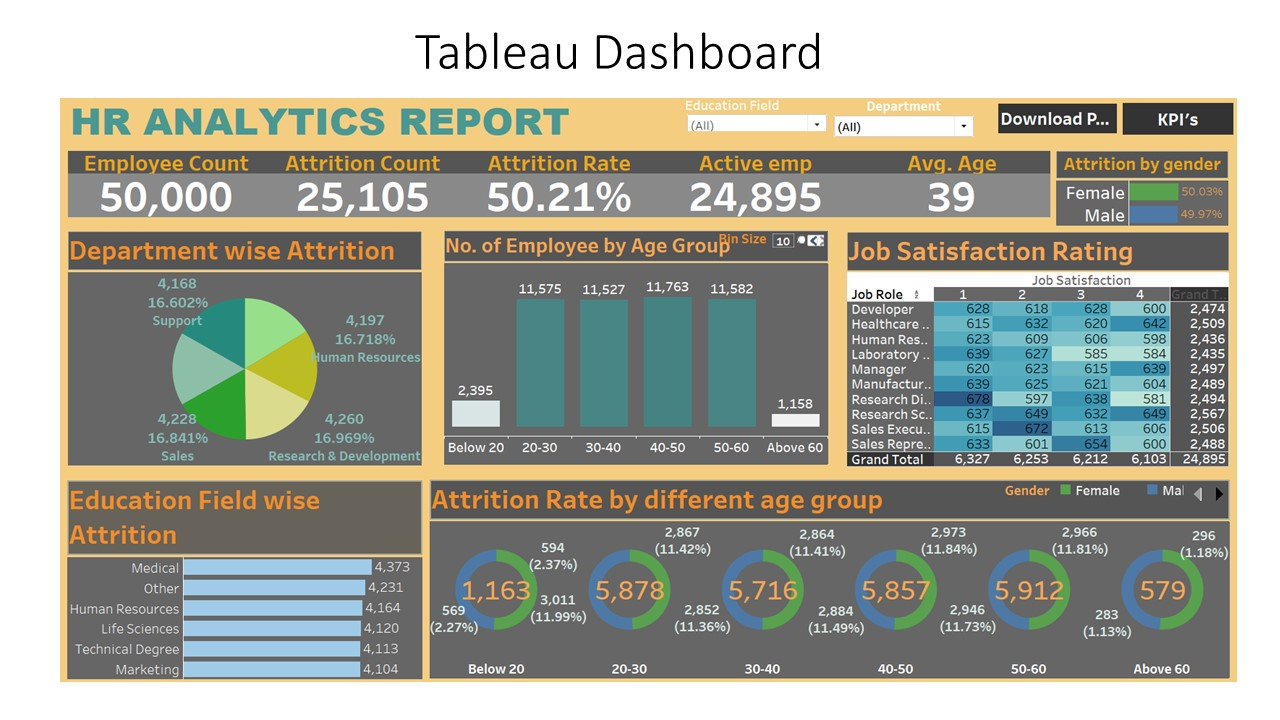

The page's visual inventory and layout, read from the dashboard file:
{"tool":"tableau","page":{"name":"Dashboard 1","canvas":[1650,850],"ordinal":0},"visuals":[{"type":"filter","title":"Education Field wise Attrition","param":"[federated.072rfzt0gn26xp103ttze02best0].[none:EducationField:nk]","box":[874,9,199,50]},{"type":"filter","title":"Department wise Attrition","param":"[federated.072rfzt0gn26xp103ttze02best0].[none:Department:nk]","box":[1077,10,199,58]},{"type":"text","box":[20,12,844,63]},{"type":"dashboard-object","box":[1479.5,18.9,152.8,45.3]},{"type":"dashboard-object","box":[1307,20,164,42]},{"type":"worksheet","title":"KPI","mark":"Automatic","box":[21.5,86.9,1358.1,94.4]},{"type":"worksheet","title":"Attrition by gender","mark":"Bar","rows":["Gender"],"box":[1387.4,86.9,238.2,105.8]},{"type":"worksheet","title":"No. of Employee by Age Group","mark":"Automatic","rows":["EmployeeCount"],"cols":["Age (bin)"],"box":[540.9,200.2,531.1,332.4]},{"type":"parameter","param":"[Parameters].[Parameter 1]","box":[920,201,149,36]},{"type":"worksheet","title":"Department wise Attrition","mark":"Pie","box":[21,201.2,489.5,332.4]},{"type":"worksheet","title":"Job Satisfaction Rating","mark":"Square","rows":["JobRole"],"cols":["JobSatisfaction"],"box":[1098.4,202.1,528.2,333.4]},{"type":"worksheet","title":"Attrition Rate by different age group","mark":"Pie","rows":["Calculation_1193735437140398082","Calculation_1193735437140398082"],"cols":["Age (bin)"],"box":[521.4,553.4,1106.2,282.4]},{"type":"worksheet","title":"Education Field wise Attrition","mark":"Automatic","rows":["EducationField"],"cols":["Calculation_1740641314882498562"],"box":[19.5,554.4,491.1,282.4]},{"type":"legend","title":"Attrition Rate by different age group","param":"[federated.072rfzt0gn26xp103ttze02best0].[none:Gender:nk]","box":[1316.1,555.3,313.4,36.8]}]}

Visuals, with their boxes on the page's 1650x850 design canvas (x1, y1, x2, y2). These are canvas units, not pixel positions in the 1280x720 screenshot, which may show the page scaled, cropped or inside an application window:
"Education Field wise Attrition" filter: [left=874, top=9, right=1073, bottom=59]
"Department wise Attrition" filter: [left=1077, top=10, right=1276, bottom=68]
text: [left=20, top=12, right=864, bottom=75]
dashboard-object: [left=1480, top=19, right=1632, bottom=64]
dashboard-object: [left=1307, top=20, right=1471, bottom=62]
"KPI" worksheet: [left=22, top=87, right=1380, bottom=181]
"Attrition by gender" worksheet (Bar marks): [left=1387, top=87, right=1626, bottom=193]
"No. of Employee by Age Group" worksheet: [left=541, top=200, right=1072, bottom=533]
parameter: [left=920, top=201, right=1069, bottom=237]
"Department wise Attrition" worksheet (Pie marks): [left=21, top=201, right=510, bottom=534]
"Job Satisfaction Rating" worksheet (Square marks): [left=1098, top=202, right=1627, bottom=536]
"Attrition Rate by different age group" worksheet (Pie marks): [left=521, top=553, right=1628, bottom=836]
"Education Field wise Attrition" worksheet: [left=20, top=554, right=511, bottom=837]
"Attrition Rate by different age group" legend: [left=1316, top=555, right=1630, bottom=592]
